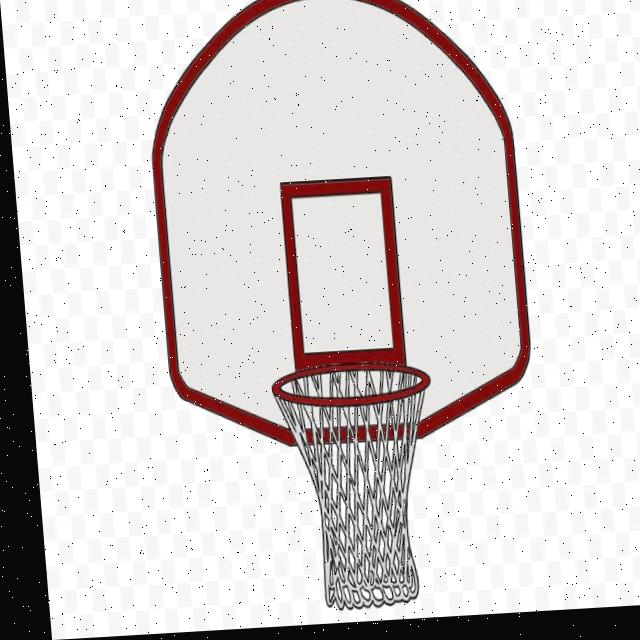hoop: (271, 359, 449, 614)
